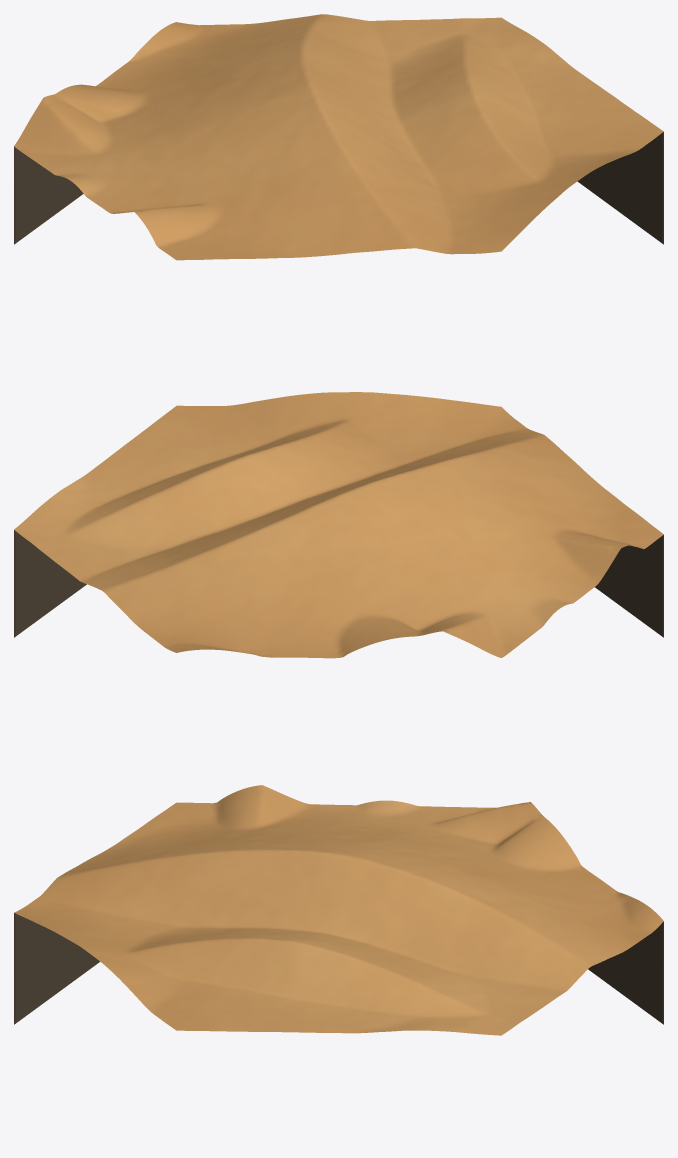
The picture shows the model from 3 angles, top to bottom: view 1: azimuth 30°, elevation 25°; view 2: azimuth 150°, elevation 25°; view 3: azimuth 270°, elevation 25°; orthographic projection.
Visible parts, largest first — view 1: terrain, hex_side_cut; view 2: terrain, hex_side_cut; view 3: terrain, hex_side_cut.
Part boxes in pixels (x1,y1,x2,y2): terrain: (14, 14, 663, 260); hex_side_cut: (14, 132, 663, 244); terrain: (14, 392, 663, 658); hex_side_cut: (14, 530, 663, 637); terrain: (14, 785, 663, 1035); hex_side_cut: (14, 913, 663, 1024).
Bounding box in the file's own units: 4330 × 1342 × 5000.
